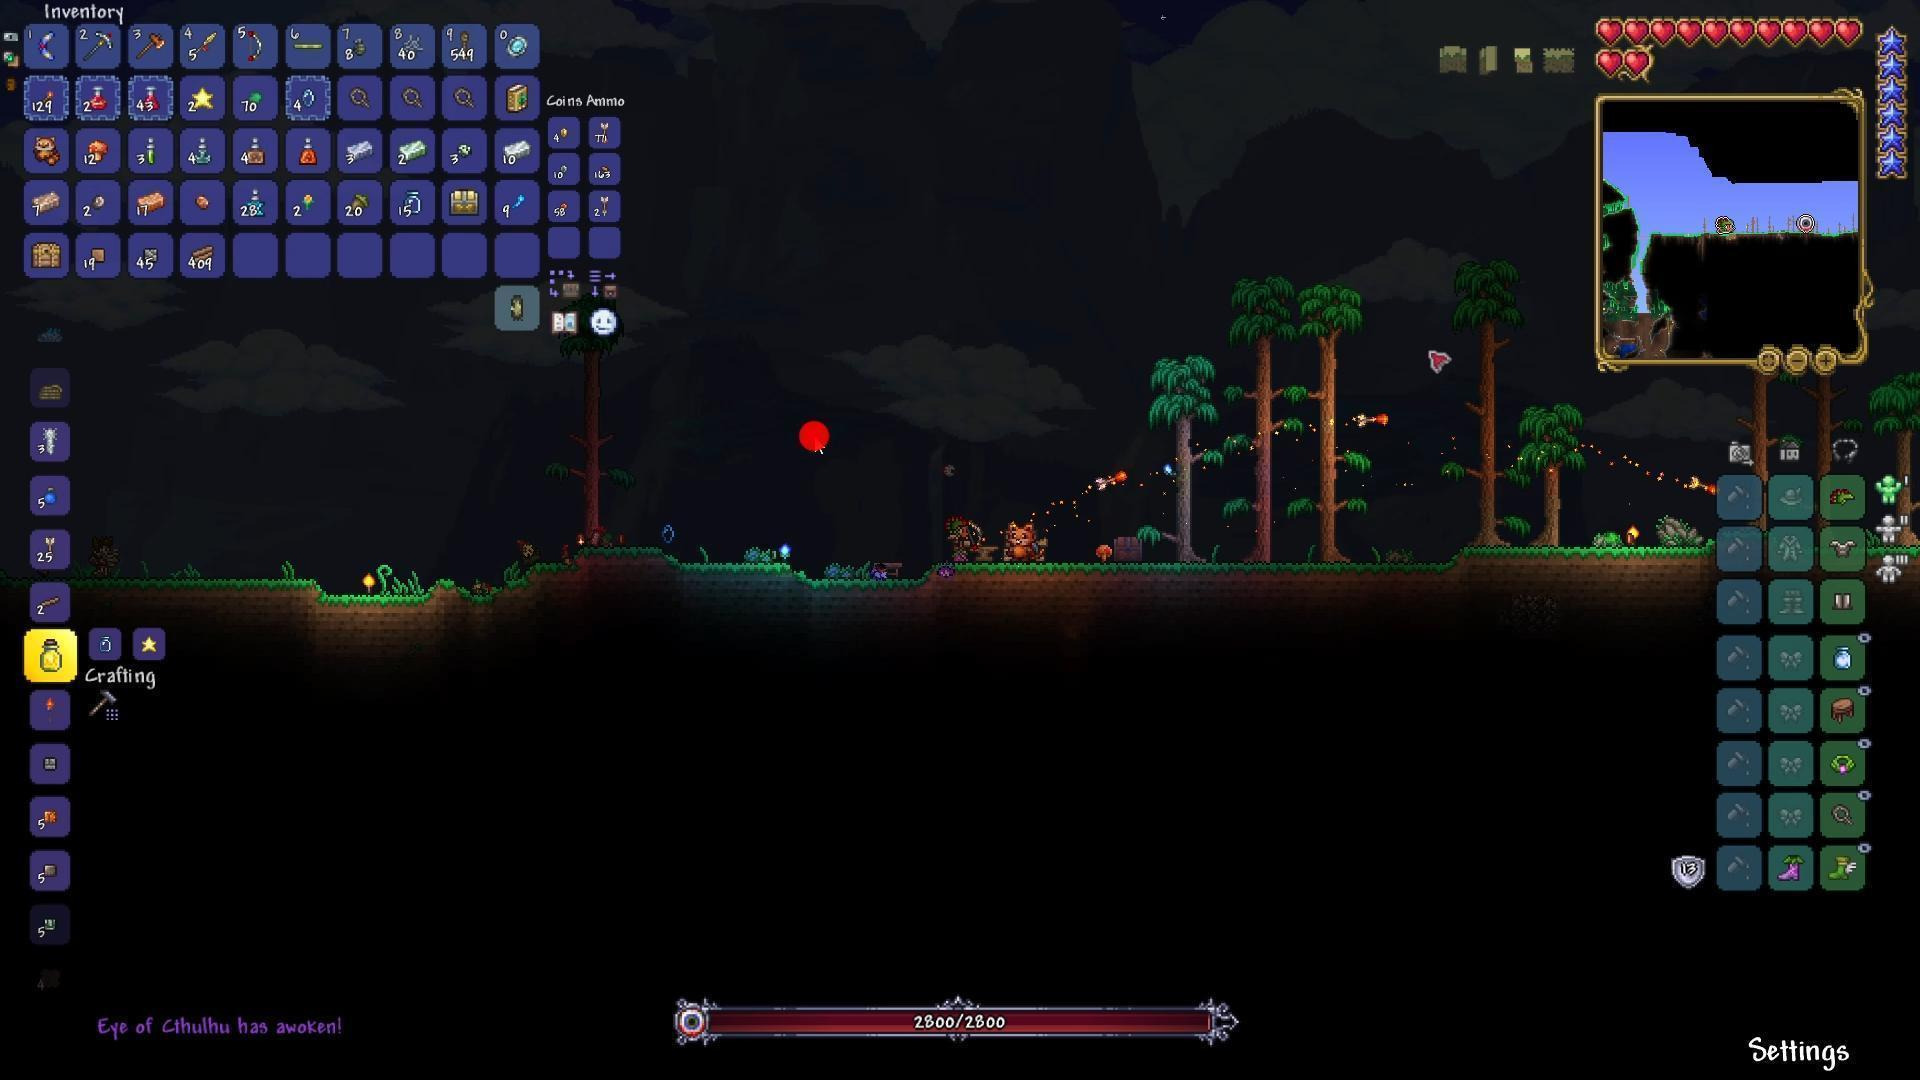anvil: (961, 541, 1009, 568)
arrow: (40, 534, 62, 564)
axe: (137, 29, 165, 62)
bar: (30, 190, 66, 212), (137, 189, 165, 216), (400, 137, 427, 164), (343, 140, 375, 162), (504, 136, 529, 164)
bow: (243, 28, 266, 65)
breastplate: (1830, 538, 1855, 560)
chest: (1102, 526, 1150, 567)
cobwebI: (397, 29, 430, 61)
gel: (244, 88, 269, 108)
grenade: (344, 33, 377, 65)
legs: (1829, 587, 1857, 616)
lens: (658, 509, 680, 559), (301, 83, 319, 111)
mirror: (505, 34, 531, 61)
ore: (190, 189, 215, 218), (87, 191, 112, 216), (454, 142, 479, 158)
pickaxe: (86, 29, 113, 62)
potion: (84, 84, 112, 112), (138, 84, 160, 111)
recallP: (240, 190, 268, 215)
rope: (37, 426, 61, 455), (454, 32, 477, 55)
wood: (190, 243, 218, 268)
workbench: (866, 556, 910, 580)
